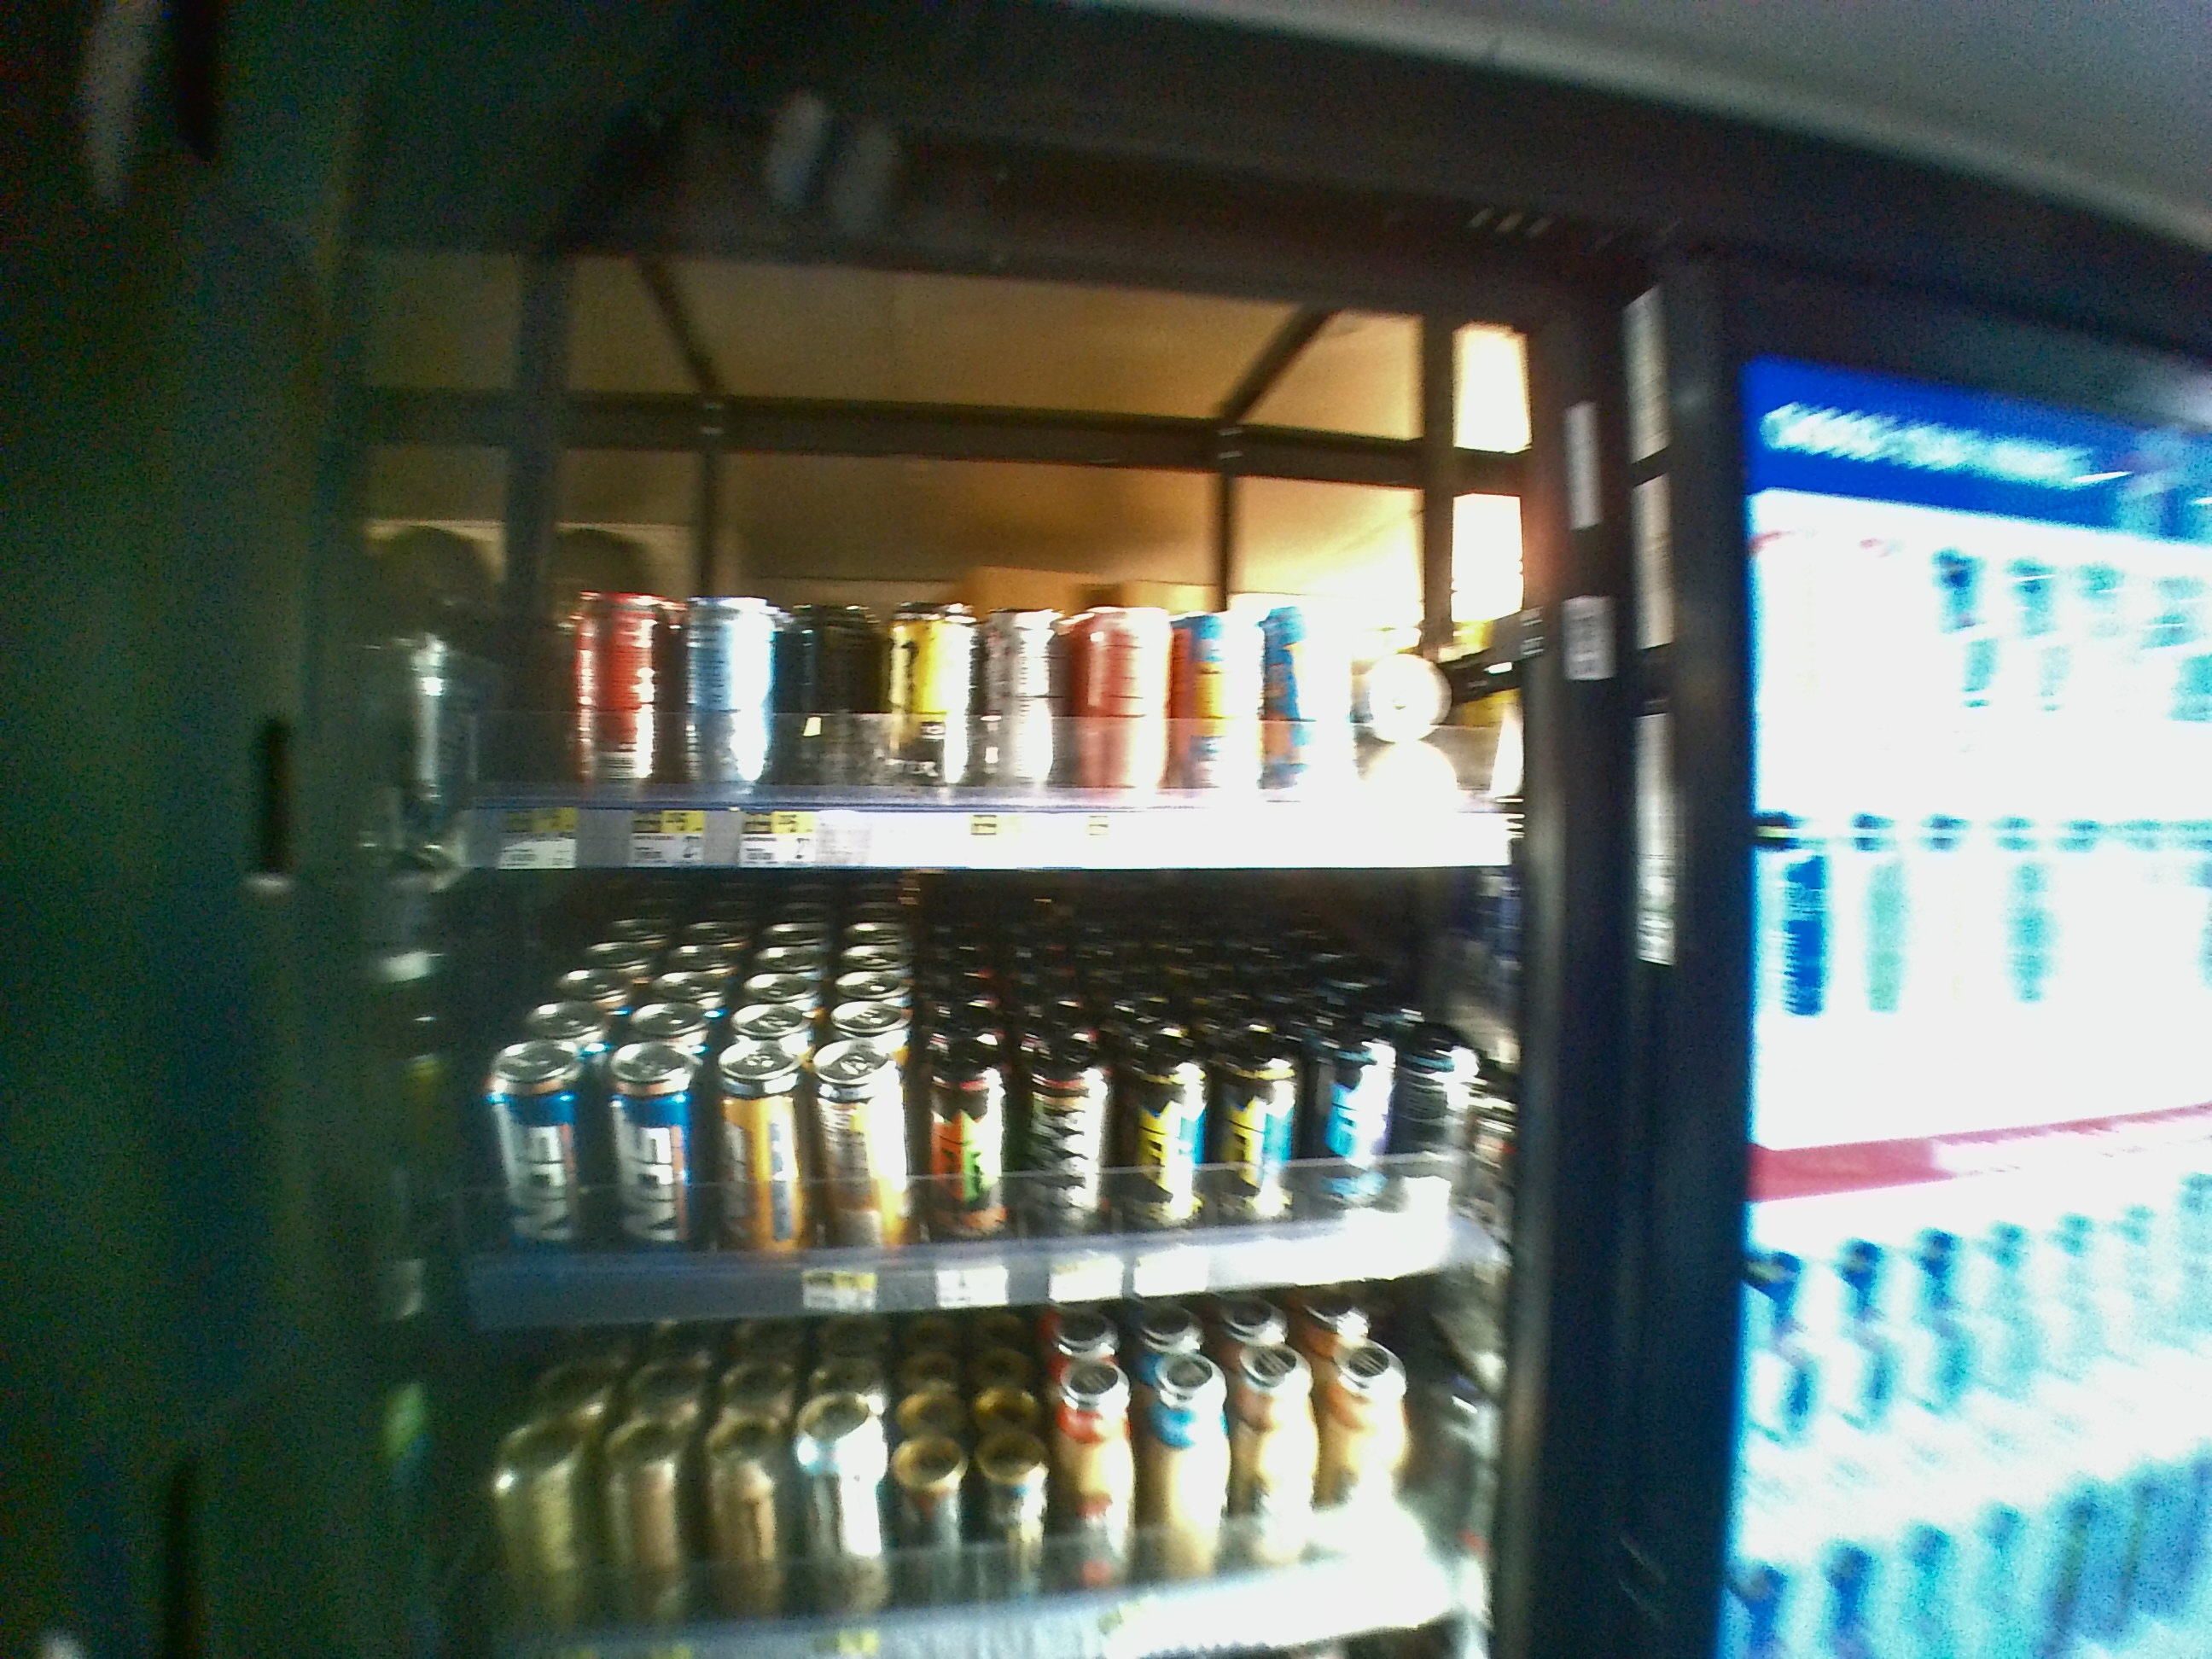shelf: (348, 267, 1534, 868), (340, 864, 1554, 1305)
